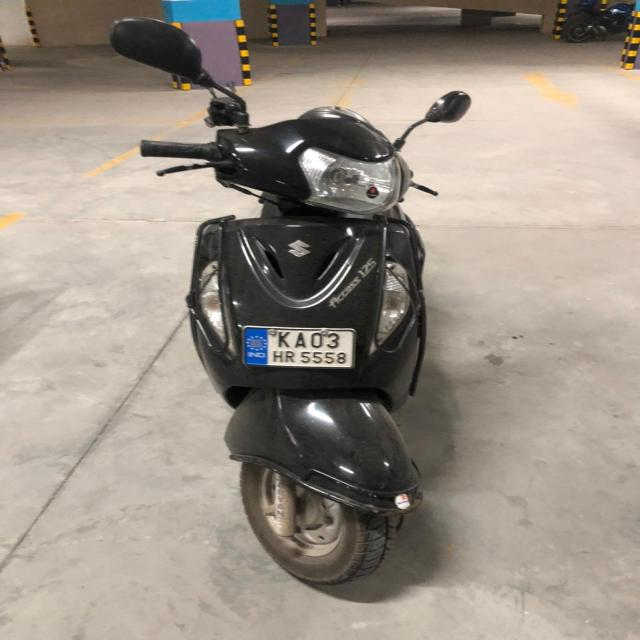license_plate: (241, 325, 357, 369)
